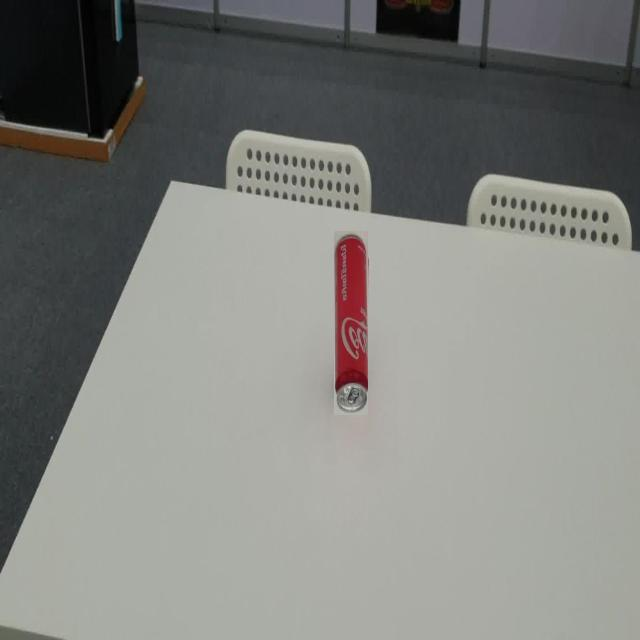coca-cola: (334, 231, 368, 415)
